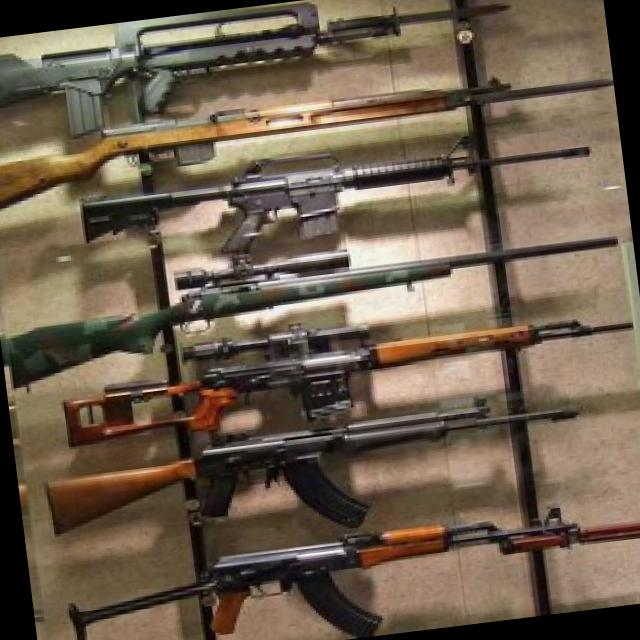long weapon: (48, 279, 639, 479), (0, 50, 621, 232), (20, 205, 628, 389), (46, 456, 639, 639), (54, 386, 597, 545), (70, 125, 606, 282), (0, 0, 521, 129)
